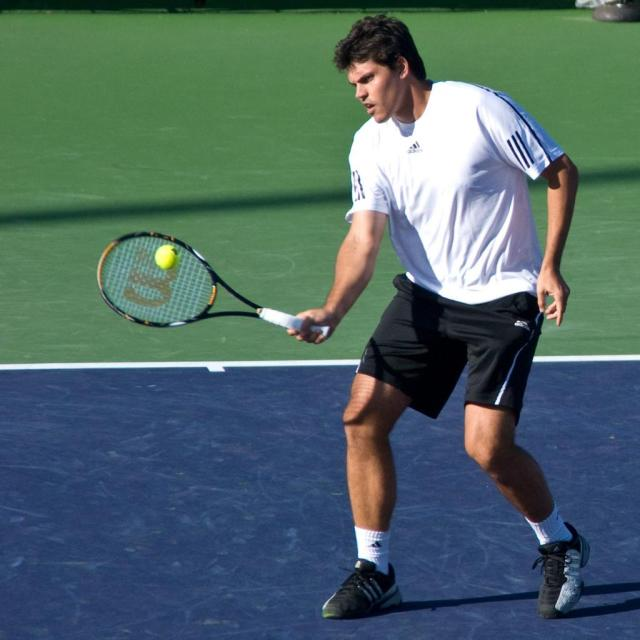Face: (341, 49, 413, 122)
